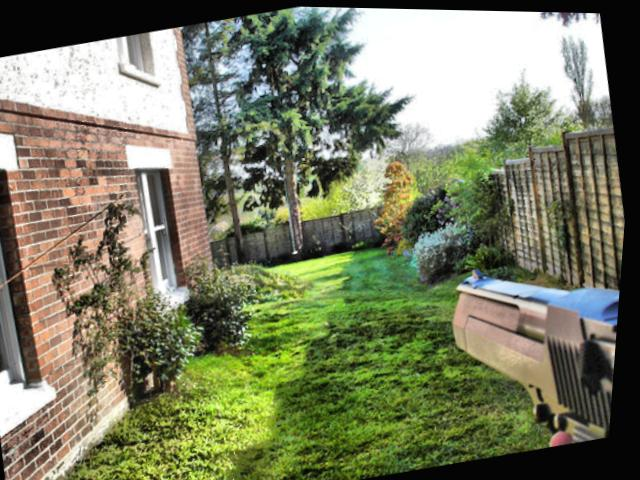pistol: (435, 234, 627, 458)
